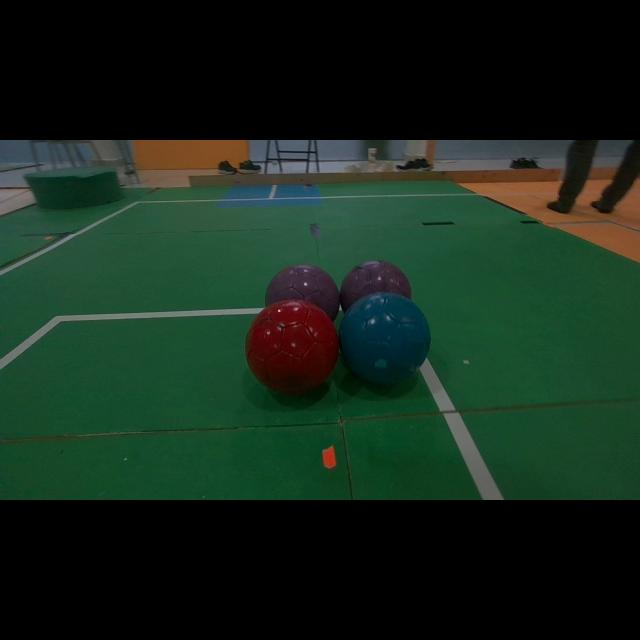B: (339, 292, 430, 384)
P: (265, 264, 340, 320), (340, 260, 411, 311)
R: (245, 300, 339, 395)
